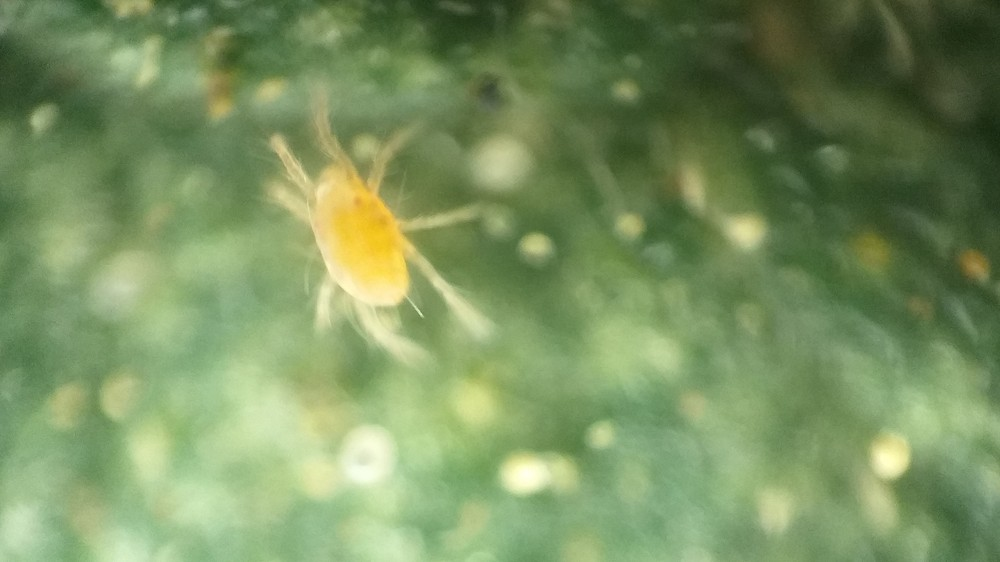Aracnido Rojo: (237, 88, 541, 384)
